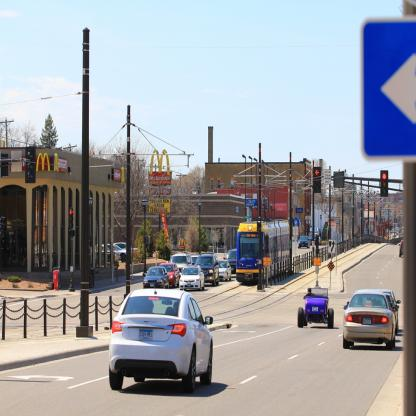Car: (109, 279, 215, 396), (343, 289, 398, 351), (178, 265, 205, 293), (143, 265, 171, 287), (159, 261, 182, 287), (219, 258, 234, 281), (171, 252, 193, 267), (400, 241, 403, 259)
